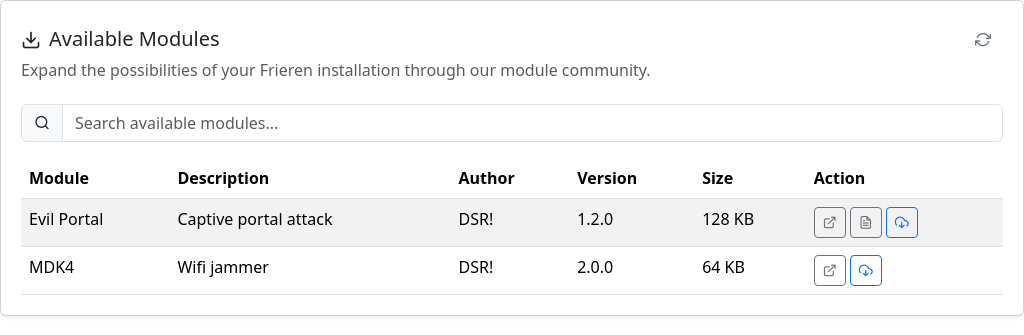
it: AvailableModulesCard › filters the list by title or description after the search debounce
The width and height of the screenshot is (1024, 335).
Step 1. Type "jammer" into the field with placeholder "Search available modules..." → coordinates (532, 123), box [62,104,1003,142]
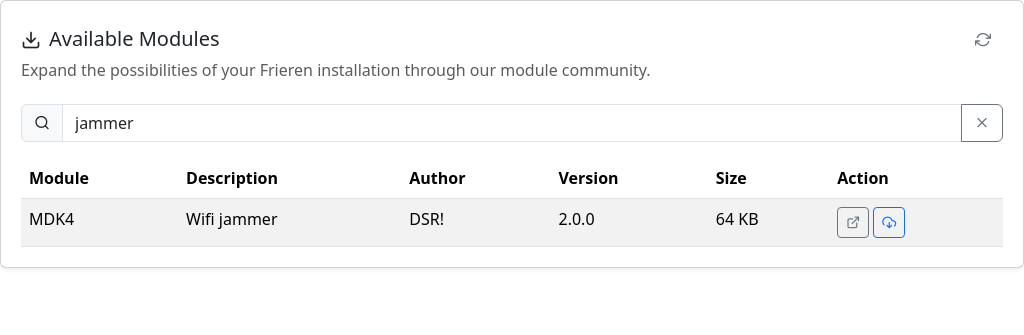
Expected: the text "MDK4" is shown, [21,199,178,247]
Now the text "Evil Portal" is gone
